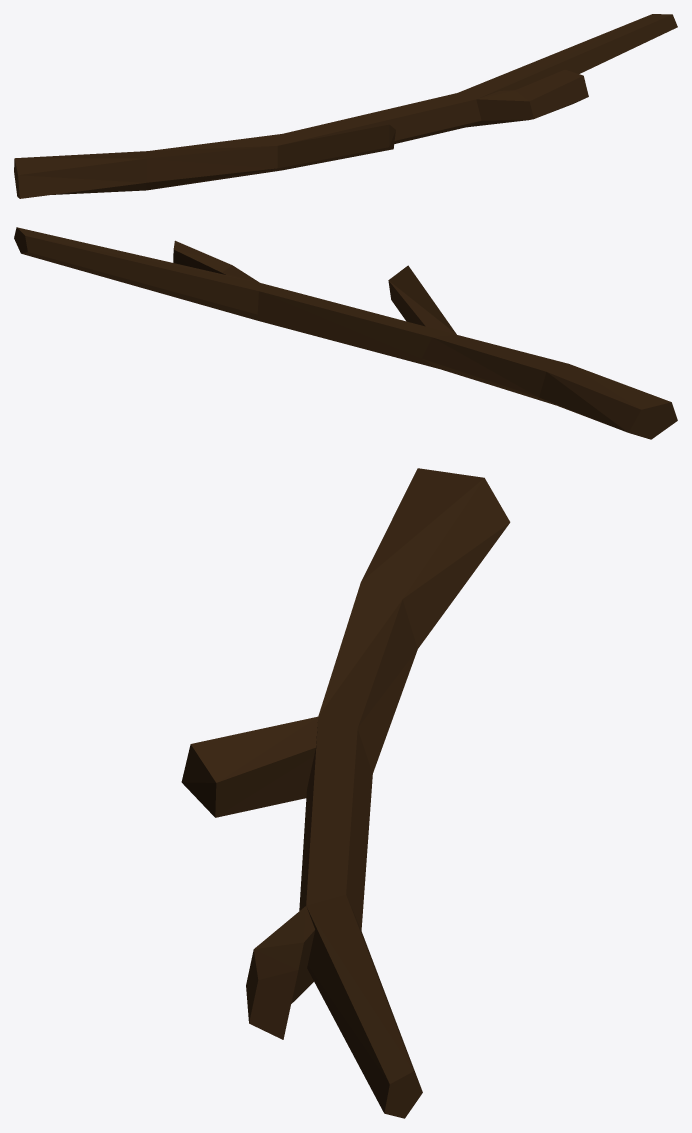
Rendered from Galaz_10.fbx.
The picture shows the model from 3 angles, top to bottom: view 1: azimuth 30°, elevation 25°; view 2: azimuth 150°, elevation 25°; view 3: azimuth 270°, elevation 25°; orthographic projection. The views are drawn at different scales.
Parts seen in each view (by area): view 1: Glaz_10; view 2: Glaz_10; view 3: Glaz_10.
Boxes of the visible parts, box(x1,y1,x2,y2) form: Glaz_10: box(14, 14, 677, 198); Glaz_10: box(14, 227, 677, 439); Glaz_10: box(181, 468, 510, 1118).
Size of the model in its own units: 2254 by 187 by 491.
